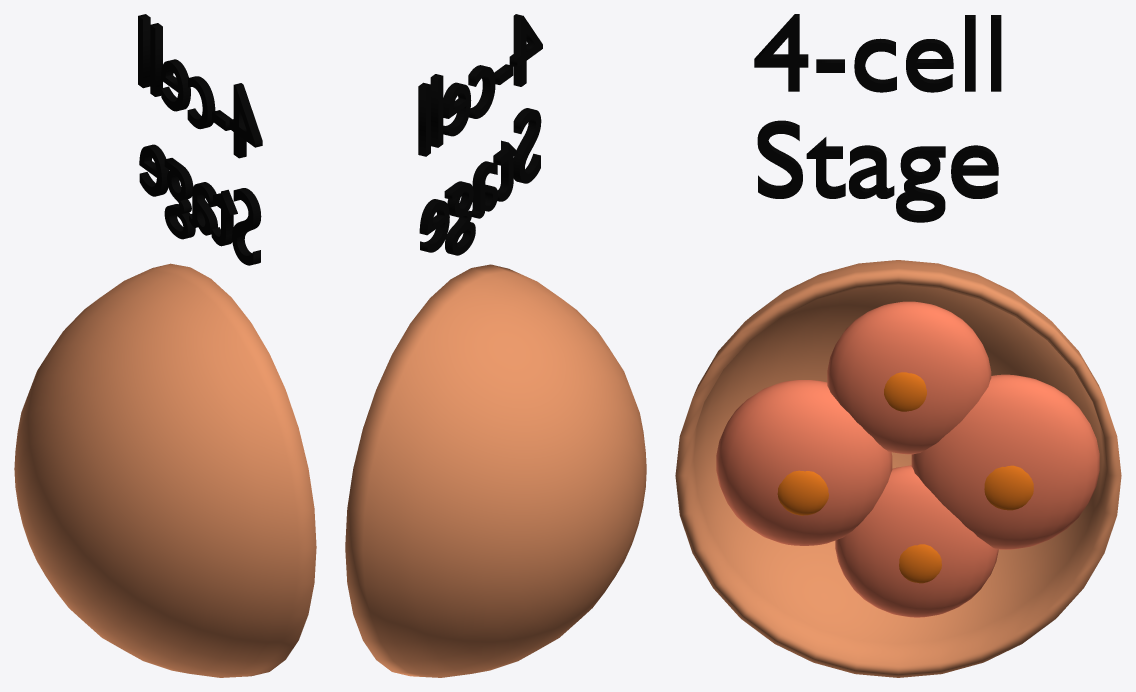
Rendered from (3)4-cell stage.gltf.
3 views of the same model, side by side, from view 1: azimuth 30°, elevation 25°; view 2: azimuth 150°, elevation 25°; view 3: azimuth 270°, elevation 25° (orthographic). The views are drawn at different scales.
Parts seen in each view (by area): view 1: Sphere.012, Text.002; view 2: Sphere.012, Text.002; view 3: Sphere.012, Sphere.016, Sphere.014, Sphere.018, Text.002, Sphere.020, Sphere.013, Sphere.015, Sphere.017, Sphere.019.
Boxes of the visible parts, bbox=[...] form: Sphere.012: bbox=[14, 263, 316, 677]; Text.002: bbox=[138, 14, 262, 265]; Sphere.012: bbox=[345, 264, 646, 677]; Text.002: bbox=[418, 14, 542, 255]; Sphere.012: bbox=[675, 260, 1121, 677]; Sphere.016: bbox=[911, 374, 1099, 549]; Sphere.014: bbox=[716, 380, 892, 545]; Sphere.018: bbox=[827, 301, 991, 454]; Text.002: bbox=[754, 14, 1001, 222]; Sphere.020: bbox=[835, 465, 998, 617]; Sphere.013: bbox=[777, 470, 828, 515]; Sphere.015: bbox=[984, 465, 1033, 510]; Sphere.017: bbox=[884, 372, 926, 411]; Sphere.019: bbox=[899, 544, 941, 583].
Size of the model in its own units: 0.8931 by 2.8 by 1.74.
